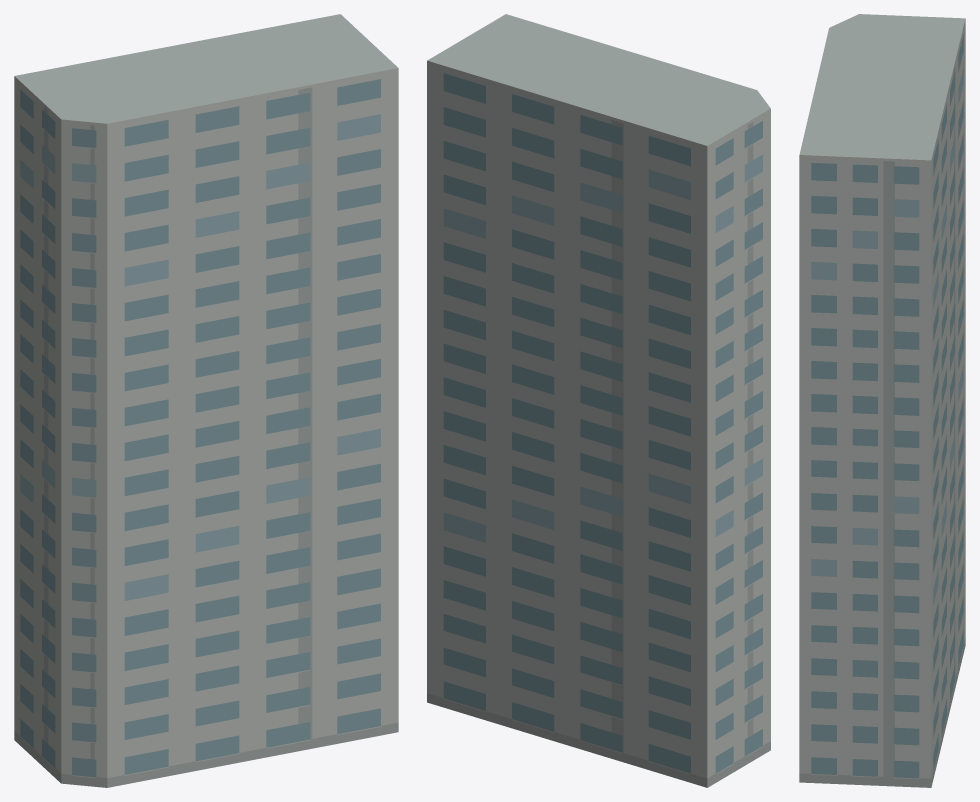
File: survey-upis-32907903.glb
3 views of the same model, side by side, from view 1: azimuth 30°, elevation 25°; view 2: azimuth 150°, elevation 25°; view 3: azimuth 270°, elevation 25° (orthographic). The views are drawn at different scales.
Parts seen in each view (by area): view 1: survey-upis-32907903.tmp; view 2: survey-upis-32907903.tmp; view 3: survey-upis-32907903.tmp.
Boxes of the visible parts, x1,y1,x2,y2 form: survey-upis-32907903.tmp: [14, 14, 398, 787]; survey-upis-32907903.tmp: [427, 14, 770, 787]; survey-upis-32907903.tmp: [799, 14, 965, 787].
Size of the model in its own units: 29 by 57.95 by 13.91.
